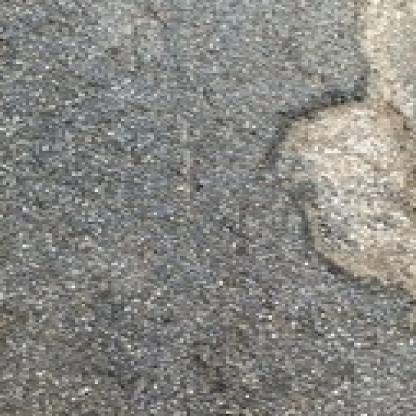pothole: (259, 85, 416, 293)
